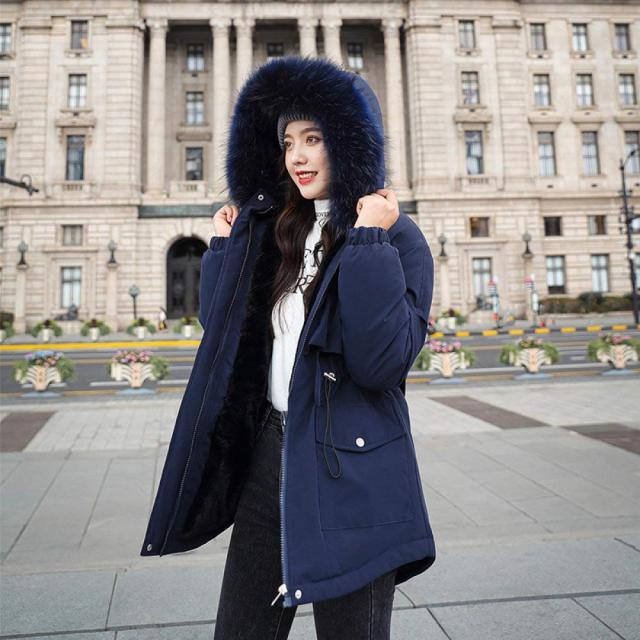coat: (135, 57, 438, 607)
sweater: (263, 200, 350, 411)
trousers: (208, 408, 408, 640)
